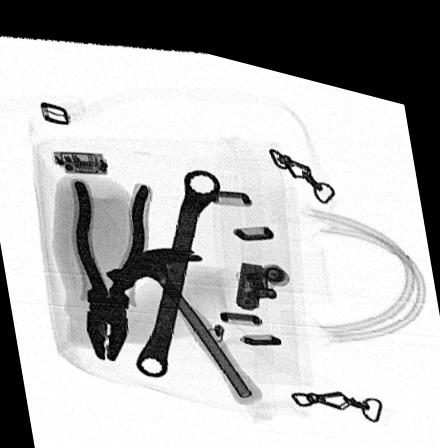Hammer: (103, 239, 266, 395)
Pliers: (70, 173, 154, 358)
Wrench: (133, 157, 223, 369)
